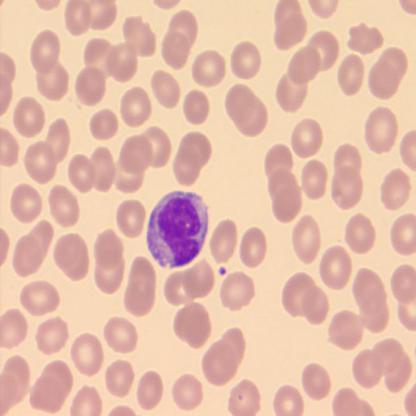Monocyte: (145, 189, 210, 270)
